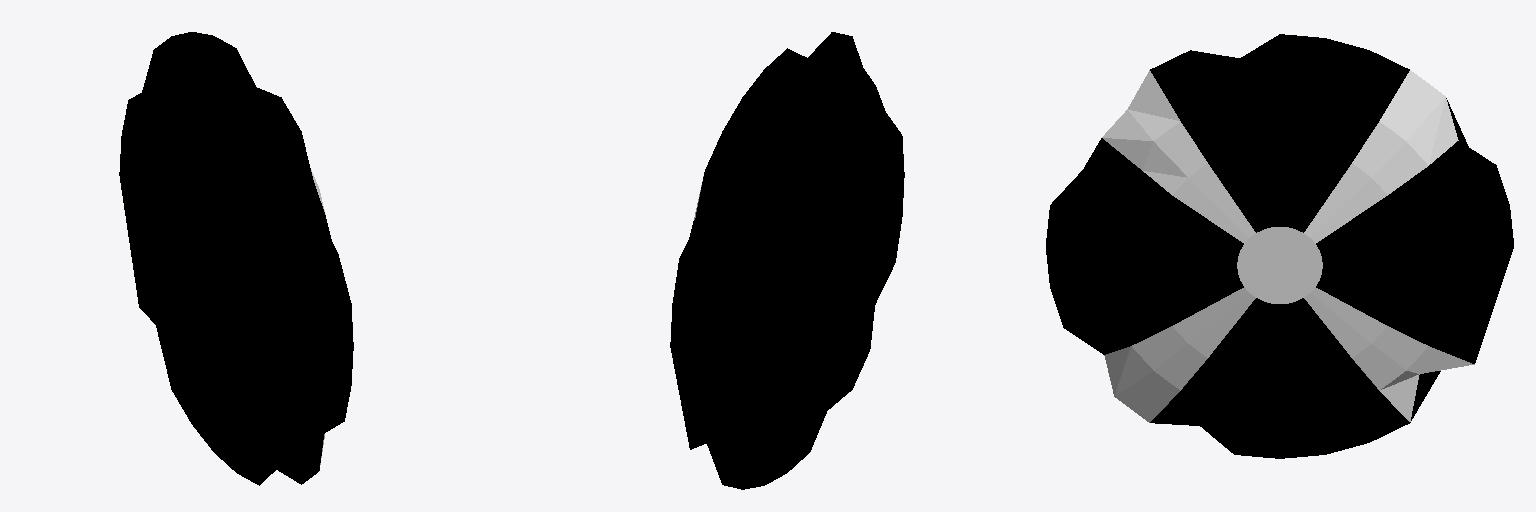
3 renders of one model, left to right at view 1: azimuth 30°, elevation 25°; view 2: azimuth 150°, elevation 25°; view 3: azimuth 270°, elevation 25°, orthographic.
Visible parts, largest first — view 1: Cylinder; view 2: Cylinder; view 3: Cylinder.
Boxes of the visible parts, x1,y1,x2,y2 form: Cylinder: [119, 32, 353, 485]; Cylinder: [670, 32, 904, 489]; Cylinder: [1046, 34, 1513, 458].
Bounding box in the file's own units: 0.1917 × 2 × 2.
1 materials, 1 textured.